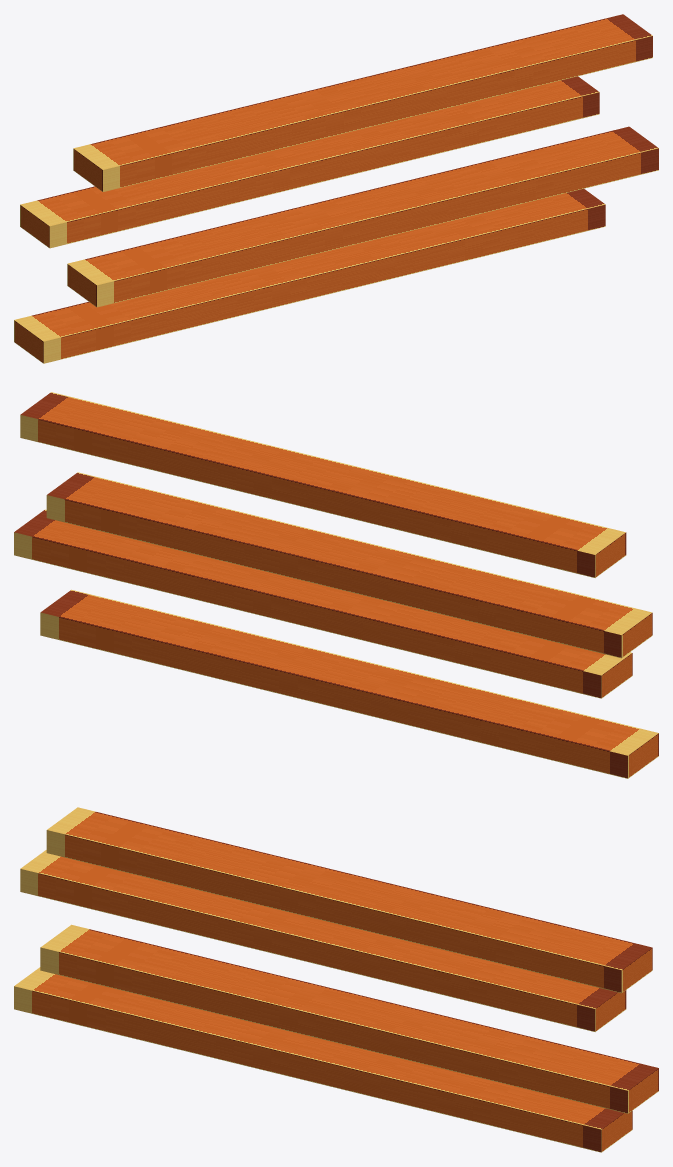
File: bench_helmet_0_hot.obj
3 renders of one model, top to bottom at view 1: azimuth 30°, elevation 25°; view 2: azimuth 150°, elevation 25°; view 3: azimuth 330°, elevation 25°, orthographic. The views are drawn at different scales.
Parts seen in each view (by area): view 1: geometry; view 2: geometry; view 3: geometry.
Part boxes in pixels (x1,y1,x2,y2): geometry: (14, 14, 658, 363); geometry: (14, 392, 658, 778); geometry: (14, 807, 658, 1152).
Size of the model in its own units: 0.75 by 0.2299 by 0.0942.
